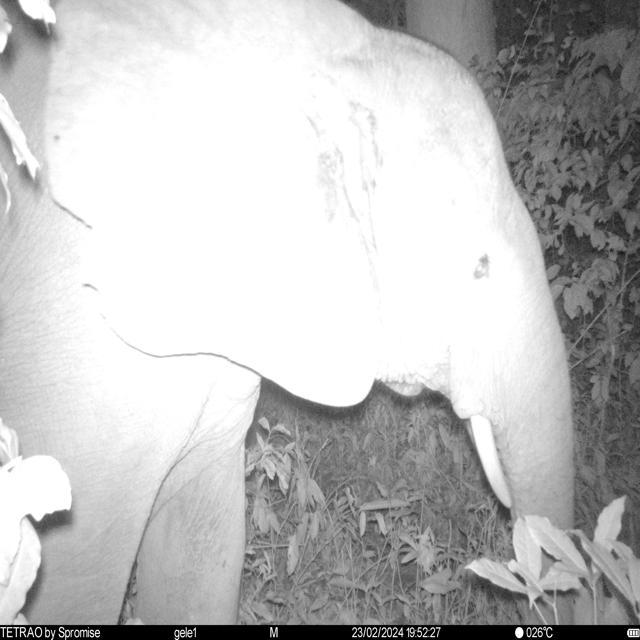ear: (44, 4, 378, 408)
elephant: (0, 1, 577, 629)
tusk: (470, 413, 512, 512)
